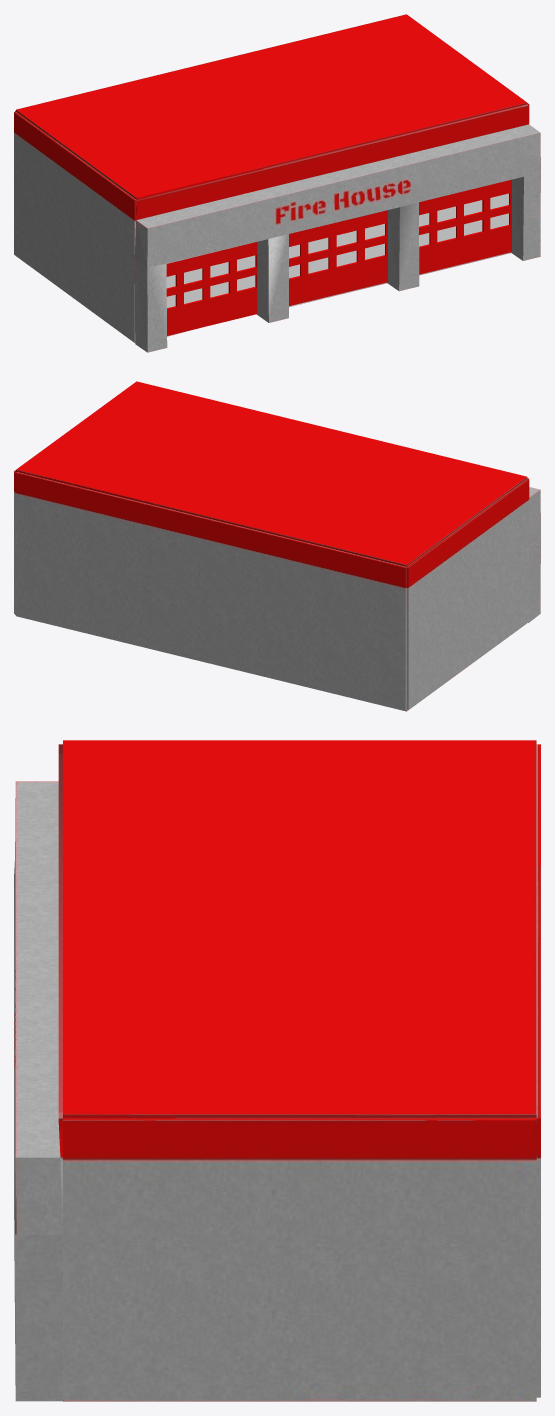
The model's file is Fire house 1.fbx.
The picture shows the model from 3 angles, top to bottom: view 1: azimuth 30°, elevation 25°; view 2: azimuth 150°, elevation 25°; view 3: azimuth 270°, elevation 25°; orthographic projection. The views are drawn at different scales.
Visible parts, largest first — view 1: Fire House; view 2: Fire House; view 3: Fire House.
Part boxes in pixels (left/top/right/bottom): Fire House: left=14, top=14, right=540, bottom=352; Fire House: left=14, top=381, right=540, bottom=711; Fire House: left=14, top=740, right=540, bottom=1401.
Bounding box in the file's own units: 497 × 176 × 293.
Materials: 1 (1 with a texture image).
